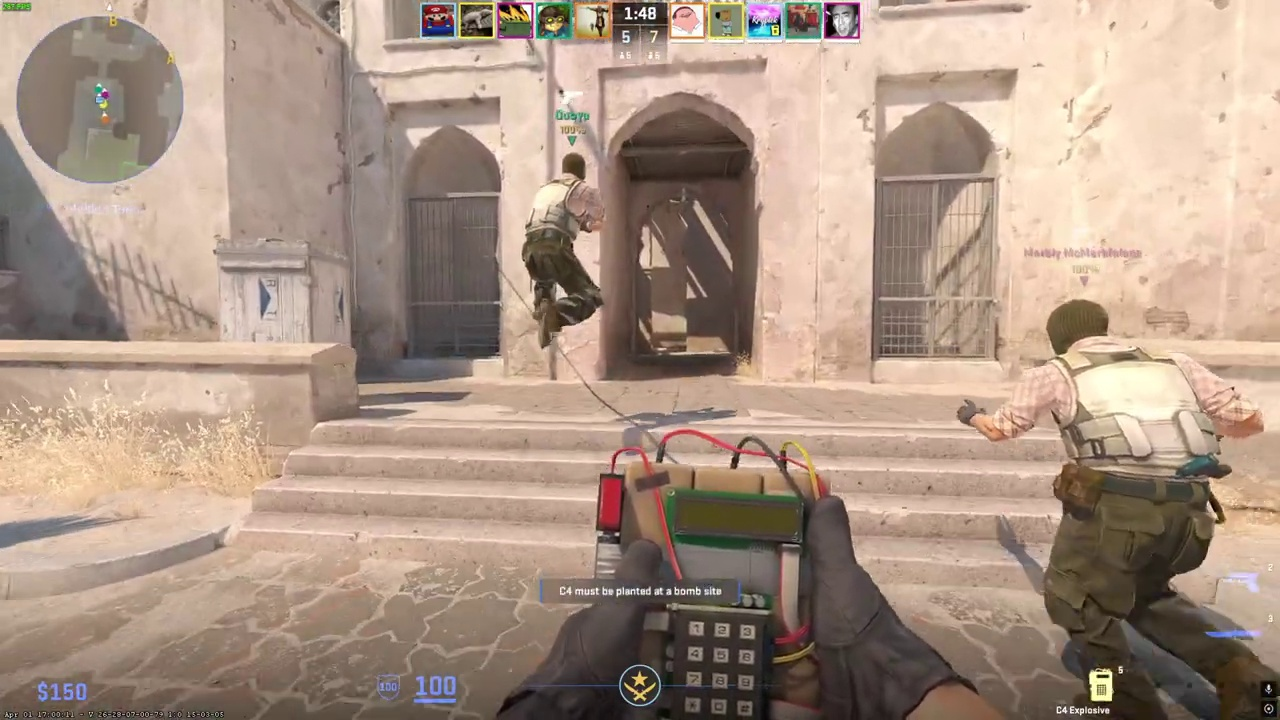Terrorist: (988, 299, 1260, 720), (522, 152, 605, 346)
